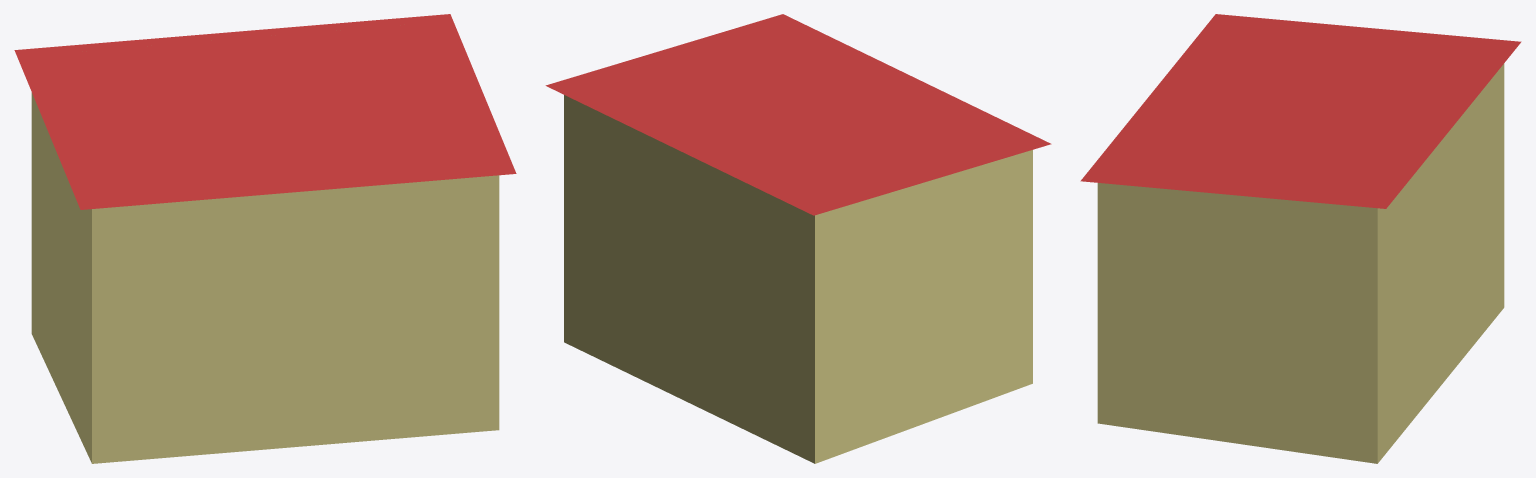
3 renders of one model, left to right at view 1: azimuth 30°, elevation 25°; view 2: azimuth 150°, elevation 25°; view 3: azimuth 270°, elevation 25°, orthographic. The views are drawn at different scales.
Bounding box in the file's own units: 9.12 × 8.04 × 5.27.
